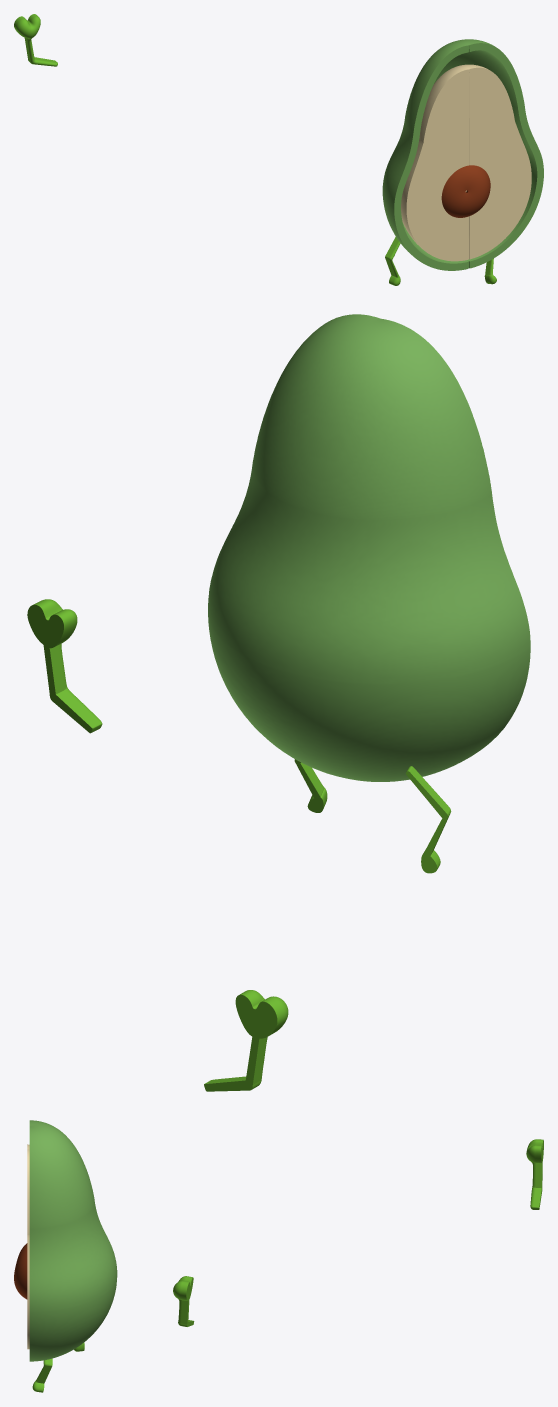
3 renders of one model, top to bottom at view 1: azimuth 30°, elevation 25°; view 2: azimuth 150°, elevation 25°; view 3: azimuth 270°, elevation 25°, orthographic. The views are drawn at different scales.
Visible parts, largest first — view 1: groupNumber_0 6, groupNumber_0, groupNumber_0 2, groupNumber_1 2, groupNumber_0 9; view 2: groupNumber_0, groupNumber_1, groupNumber_1 2, groupNumber_0 9; view 3: groupNumber_0, groupNumber_1 2, groupNumber_1, groupNumber_0 6, groupNumber_0 2, groupNumber_0 8.
Boxes of the visible parts, bbox=[...] form: groupNumber_0 6: bbox=[401, 64, 531, 261]; groupNumber_0: bbox=[382, 39, 543, 270]; groupNumber_0 2: bbox=[441, 165, 490, 217]; groupNumber_1 2: bbox=[14, 14, 57, 66]; groupNumber_0 9: bbox=[385, 236, 400, 285]; groupNumber_0: bbox=[208, 314, 530, 781]; groupNumber_1: bbox=[27, 599, 102, 733]; groupNumber_1 2: bbox=[204, 990, 288, 1091]; groupNumber_0 9: bbox=[405, 766, 451, 873]; groupNumber_0: bbox=[29, 1120, 117, 1361]; groupNumber_1 2: bbox=[526, 1139, 543, 1209]; groupNumber_1: bbox=[173, 1276, 194, 1326]; groupNumber_0 6: bbox=[27, 1144, 29, 1349]; groupNumber_0 2: bbox=[14, 1243, 27, 1299]; groupNumber_0 8: bbox=[32, 1358, 52, 1392].
Size of the model in its own units: 5.81 by 4.59 by 8.7.
